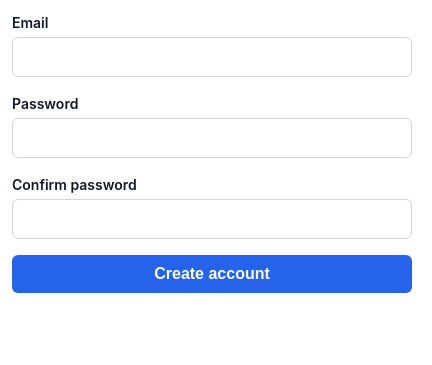
Scenario: RegistrationForm › displays conflict error when email is taken
The image size is (432, 365).
Type "existing@example.com" into the field labelled "Email". click: (212, 57)
box: [12,37,412,77]
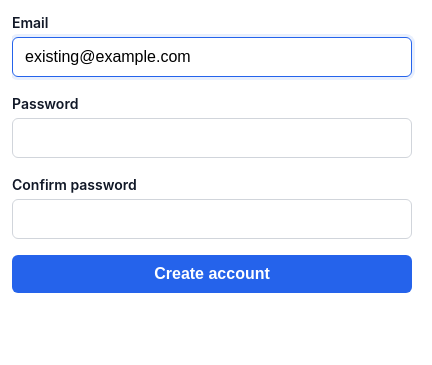
Type "password123" into the password field labelled "Password". click: (212, 138)
box: [12,118,412,158]
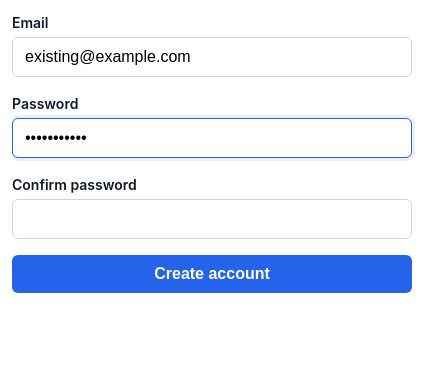
Type "password123" into the password field labelled "Confirm password". click: (212, 219)
box: [12,199,412,239]
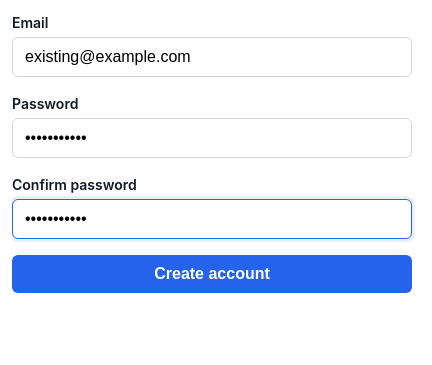
Click the button "Create account". click: (212, 274)
box: [12,255,412,293]
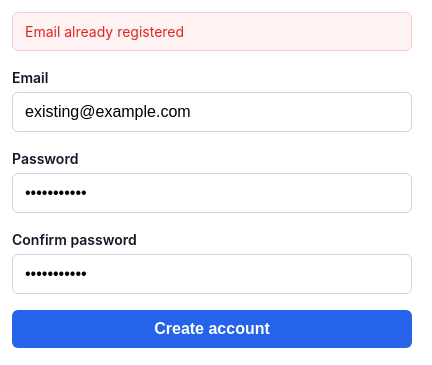
expect the text "Email already registered" is shown: met, box [12,12,412,51]
